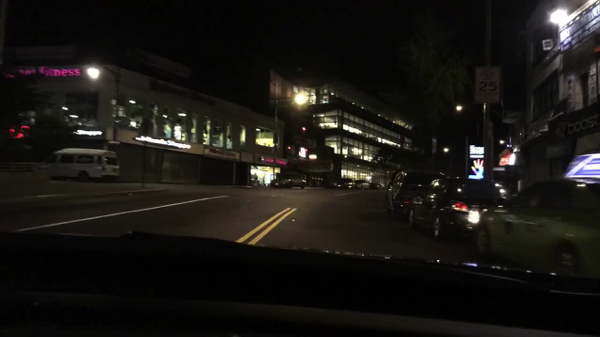car: (472, 177, 598, 279), (405, 175, 505, 243), (386, 169, 450, 223), (48, 148, 121, 184), (270, 172, 308, 189), (330, 176, 355, 189), (354, 179, 372, 189), (374, 182, 388, 190)
traffic sign: (475, 66, 501, 101)
